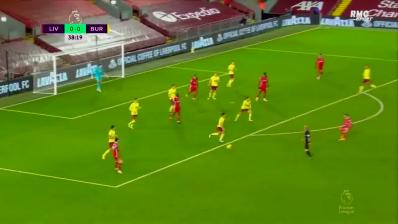football: (224, 142, 235, 151)
player: (207, 111, 229, 143), (356, 63, 377, 95), (100, 125, 118, 162), (111, 137, 127, 176), (126, 97, 143, 131), (336, 113, 354, 144), (254, 71, 271, 103), (234, 96, 254, 123), (168, 93, 184, 125), (92, 63, 108, 95), (312, 52, 329, 81), (206, 72, 222, 101), (184, 73, 201, 100), (167, 85, 179, 116), (226, 60, 239, 88)
referee: (301, 124, 315, 160)
